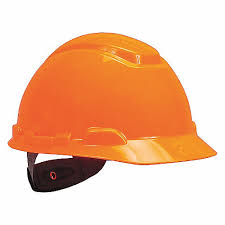Casco de seguridad: (6, 31, 218, 196)
